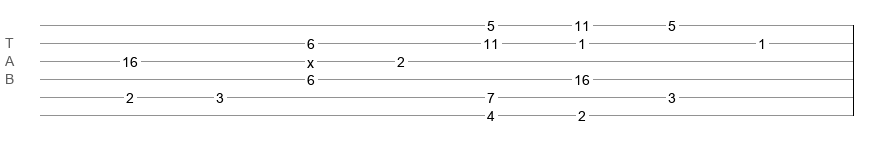1: (578, 36, 586, 46), (758, 36, 766, 46)
11: (483, 36, 499, 46), (574, 18, 590, 28)
16: (122, 54, 138, 64), (574, 72, 590, 82)
2: (126, 90, 134, 100), (397, 54, 405, 64), (578, 108, 586, 118)
3: (216, 90, 224, 100), (668, 90, 676, 100)
4: (487, 108, 495, 118)
5: (487, 18, 495, 28), (668, 18, 676, 28)
6: (307, 36, 315, 46), (307, 72, 315, 82)
7: (487, 90, 495, 100)
x: (307, 55, 314, 63)
